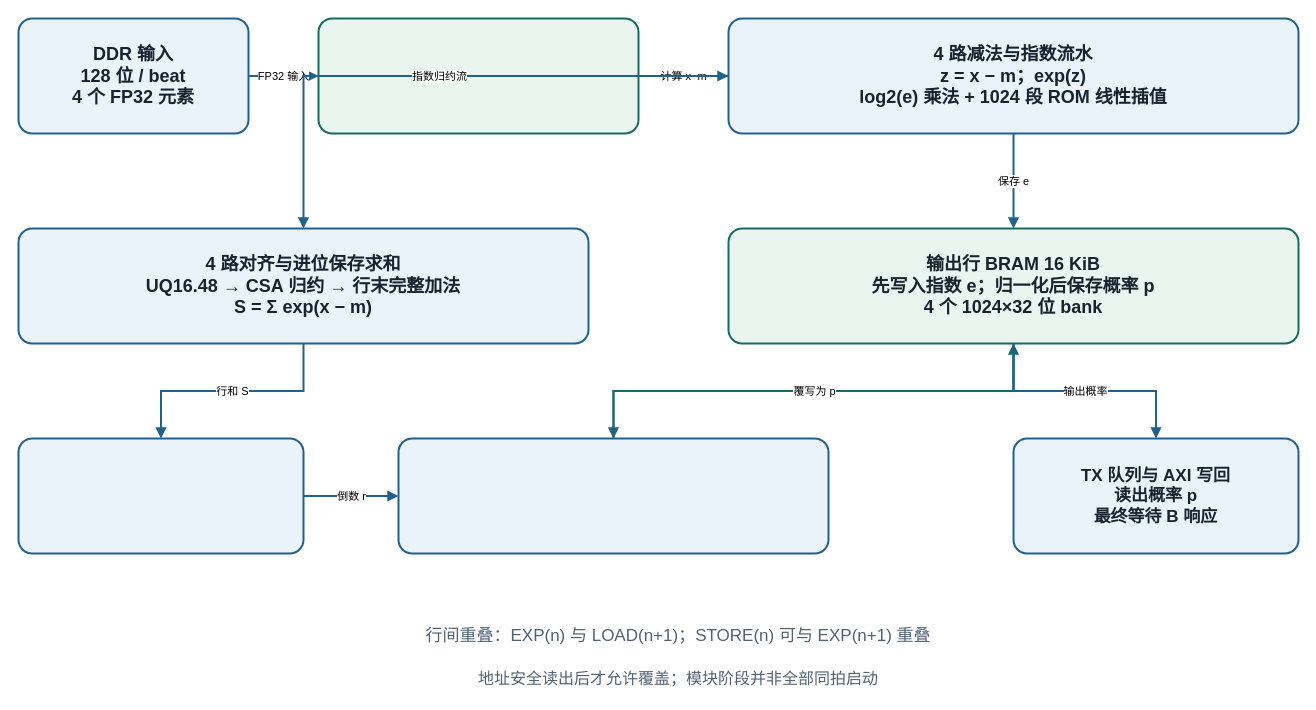
Image size: 1316x710. Some labels were removed from this diagram. Here are the shapes that lost their labels. From the top down, the centre of each, then its label:
At point 478,75: "输入行 BRAM 16 KiB 4 个 1024×32 位 bank 加载同时更新最大值 m".
At point 160,495: "每行一次倒数 r = 1 / S".
At point 613,495: "4 路 FP32 归一化 p = e × r 归一化后写回输出行缓存".
